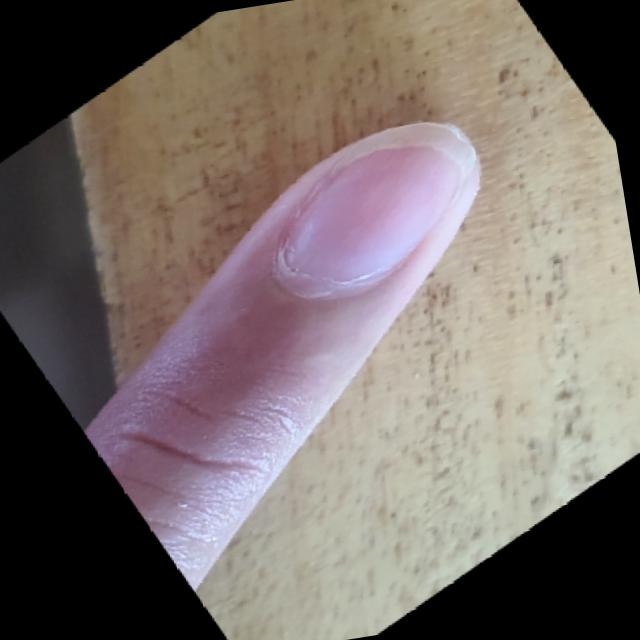Nail: (281, 123, 472, 291)
